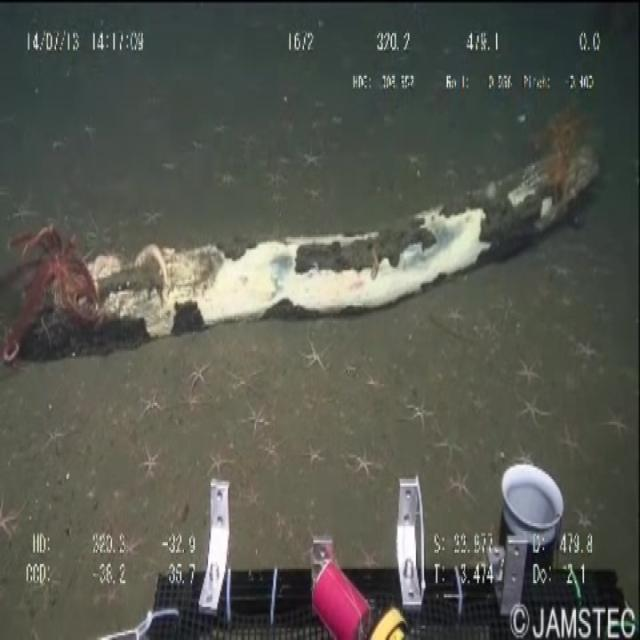Wood: (0, 90, 610, 371)
